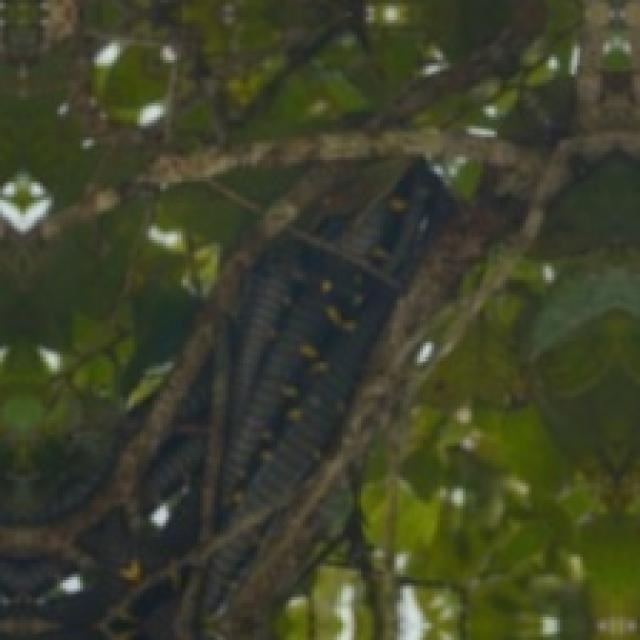mangrove cat snake: (0, 160, 480, 637)
